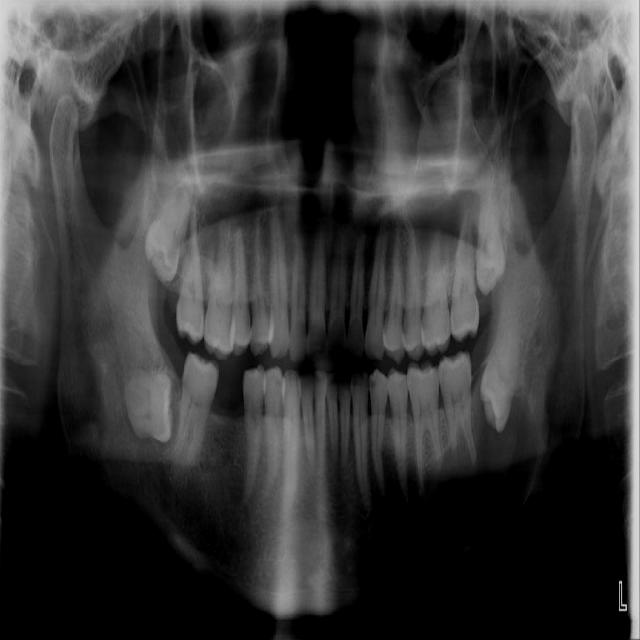Missing teeth: (211, 367, 246, 424)
impacted tooth: (481, 293, 524, 434), (144, 173, 192, 281), (121, 368, 175, 441), (476, 185, 507, 294)
